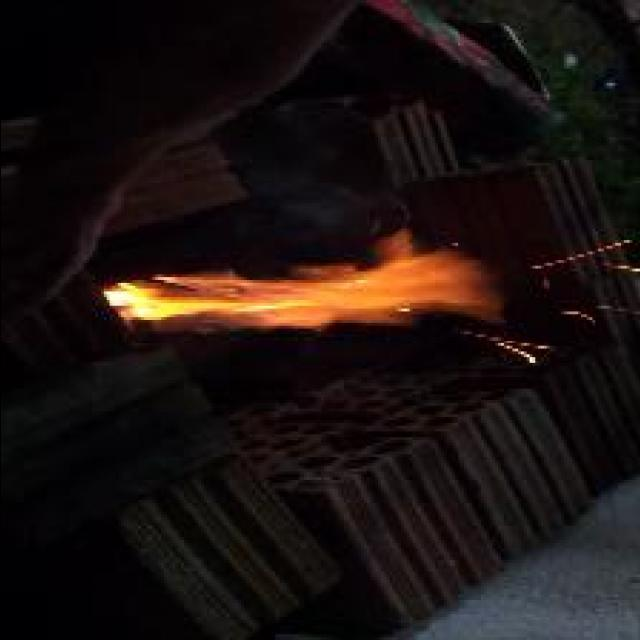Fire: (102, 230, 504, 330)
